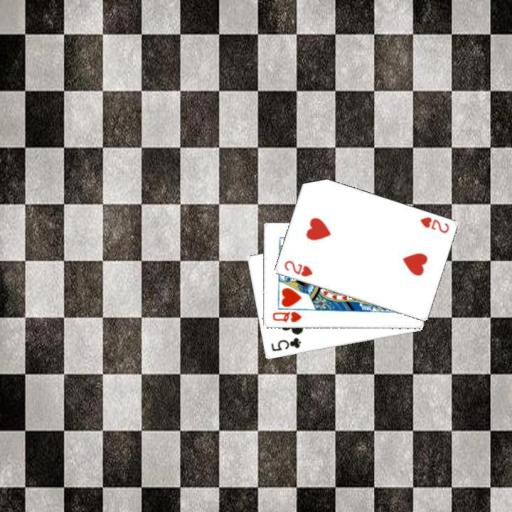2H: (281, 257, 314, 278), (417, 214, 450, 235)
5C: (268, 334, 303, 353)
QH: (269, 309, 303, 324)
